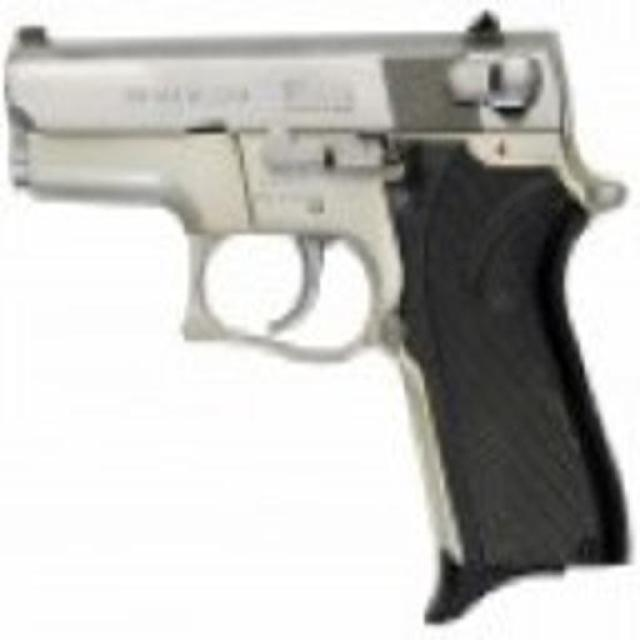pistol: (3, 15, 631, 612)
